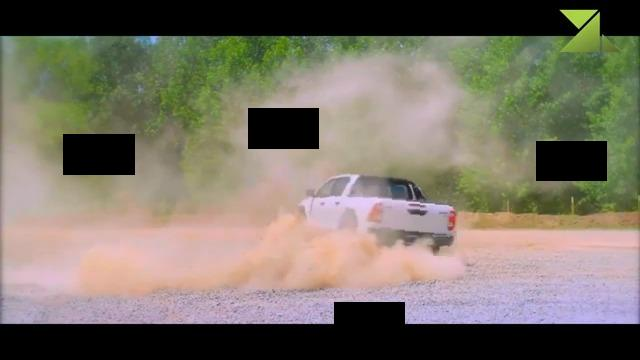MIL_HMMWV: (294, 172, 459, 255)
